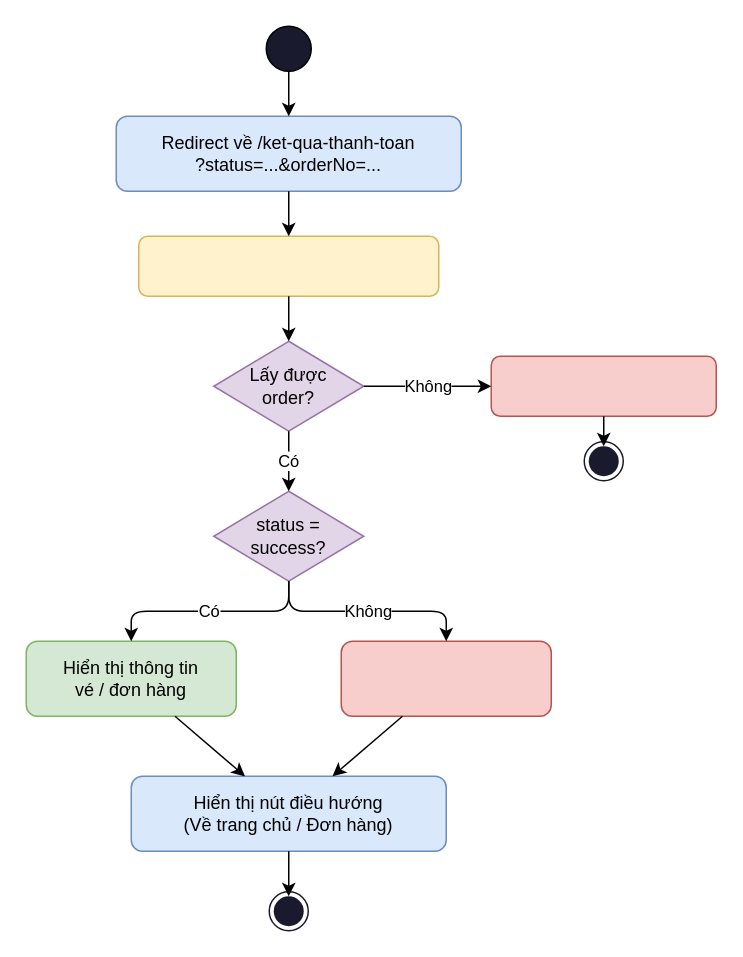
The diagram is 743 pixels wide and 957 high, and some of its shapes have lost their labels. Each missing label, with the centre of its shape:
GET /orders/by-order-no/{orderNo}: the point at 288,265
Hiển thị lỗi không tìm thấy order: the point at 603,385
Hiển thị thông báo thất bại / hủy: the point at 445,678
